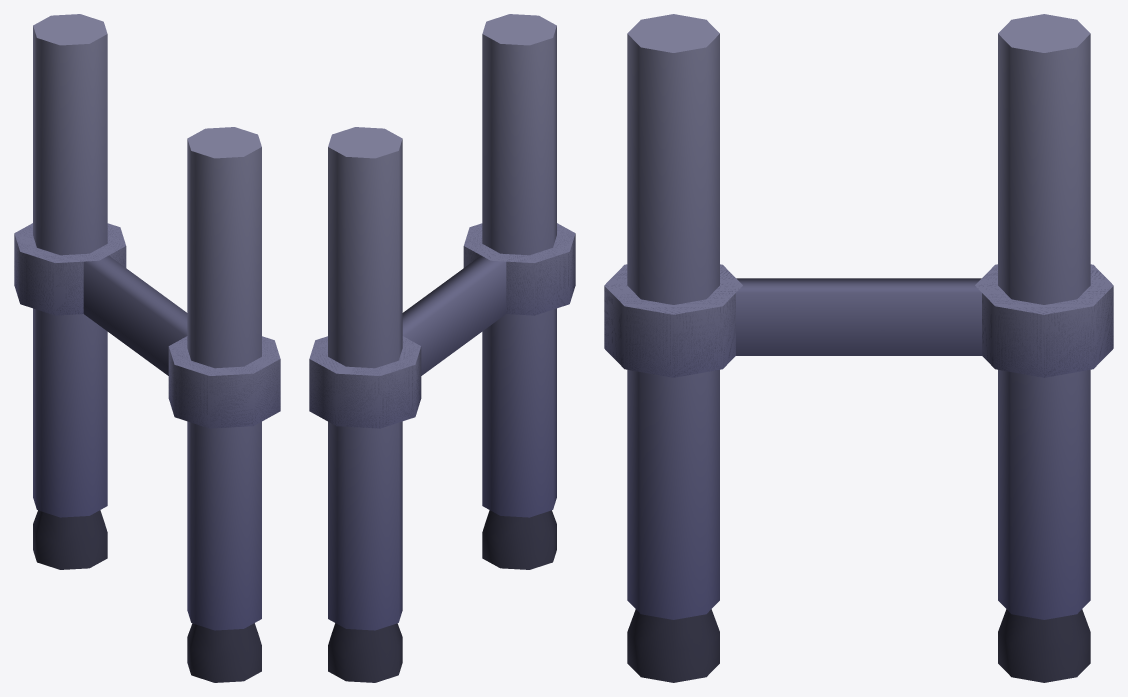
File: structure-high.glb
3 renders of one model, left to right at view 1: azimuth 30°, elevation 25°; view 2: azimuth 150°, elevation 25°; view 3: azimuth 270°, elevation 25°, orthographic. The views are drawn at different scales.
Visible parts, largest first — view 1: structure-high; view 2: structure-high; view 3: structure-high.
Boxes of the visible parts, x1,y1,x2,y2 form: structure-high: (14,14,280,682); structure-high: (309,14,575,682); structure-high: (604,14,1113,682).
Bounding box in the file's own units: 0.3 × 1.5 × 1.1.
